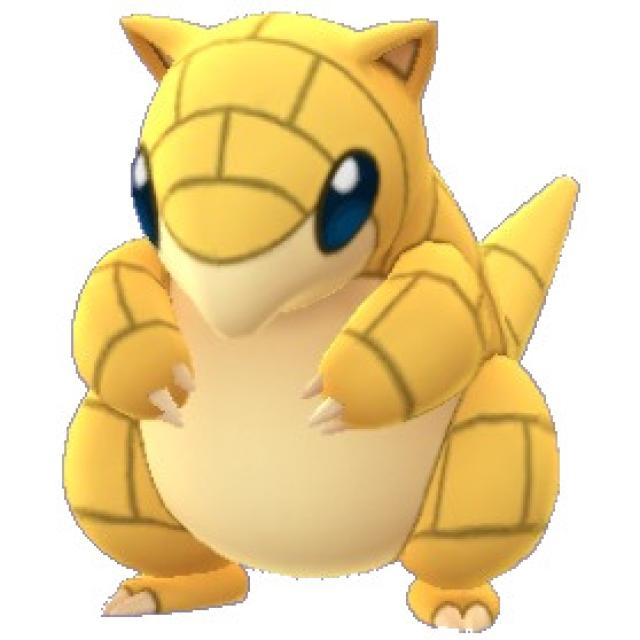Sandshrew: (55, 22, 560, 638)
